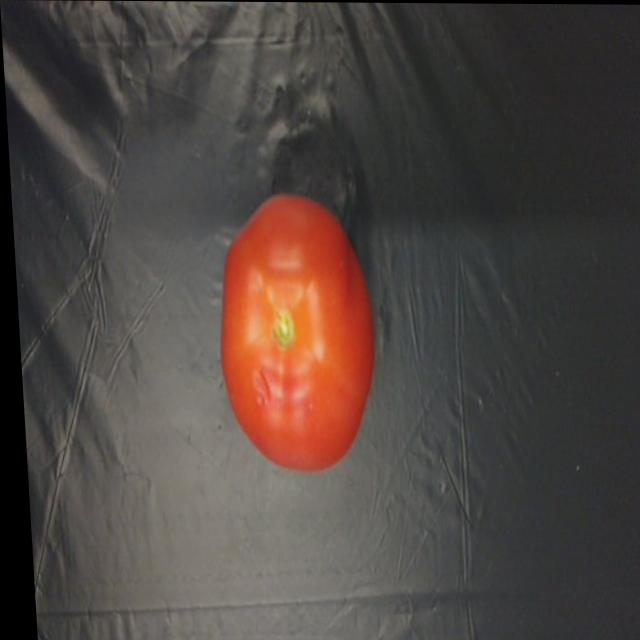sari: (205, 197, 382, 469)
